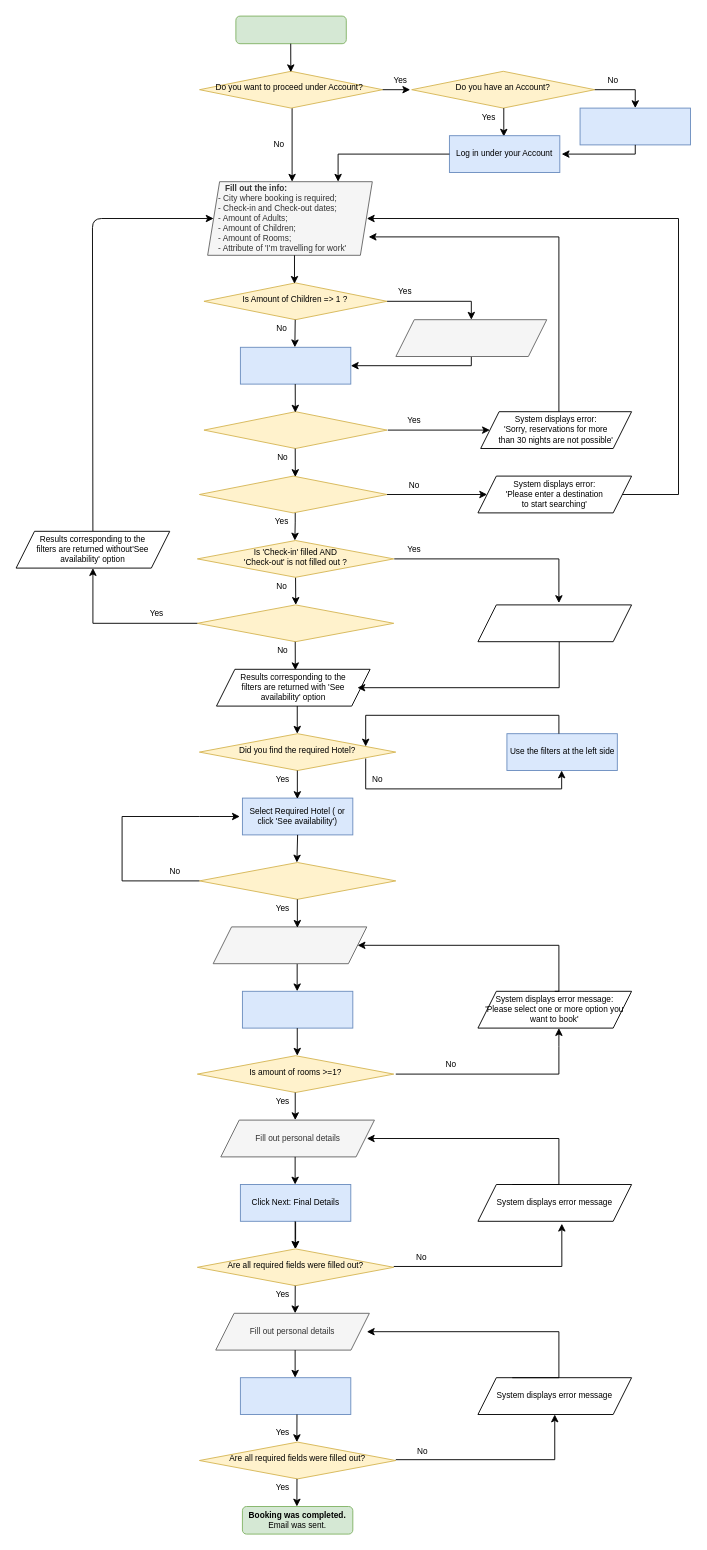
Image size: 707x1550. Some labels were removed from this diagram. The centre of each missing label's shape, as x and y in pixels:
"Are both 'Check-In' AND 'Check-out' not filled out?" belongs at (295,623).
"Click 'Complete Booking'" belongs at (295,1395).
"Click 'I'll reserve'" belongs at (297,1009).
"Create your Account" belongs at (634,126).
"Is 'Check-out'-'Check-in' >30 ?" belongs at (295,429).
"Is 'Where are you going' filled out?" belongs at (292,494).
"Is the Hotel available?" belongs at (297,880).
"Run SEARCH" belongs at (295,365).
"Set required Amount of Rooms" belongs at (289,945).
"Specify the Age of each 'Children' count" belongs at (471,337).
"Start Point (booking.com)" belongs at (290,29).
"System sets 'Check-out'='Check-in'+1" belongs at (554,623).
